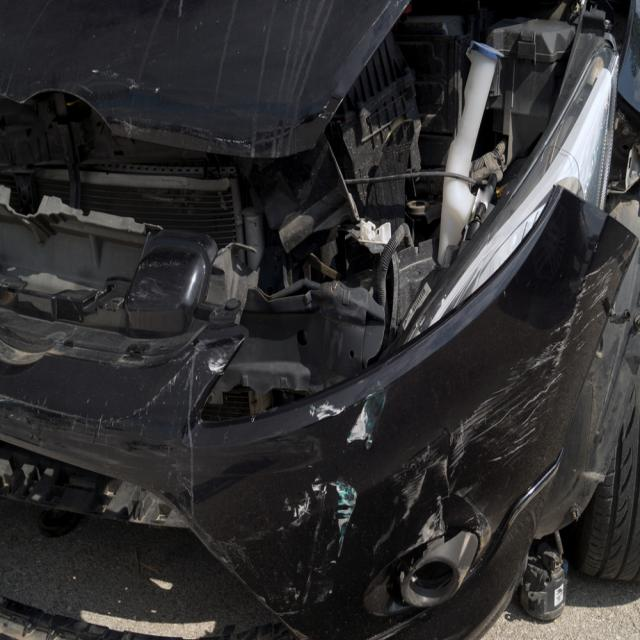scratch: (281, 261, 619, 606), (93, 339, 238, 438)
